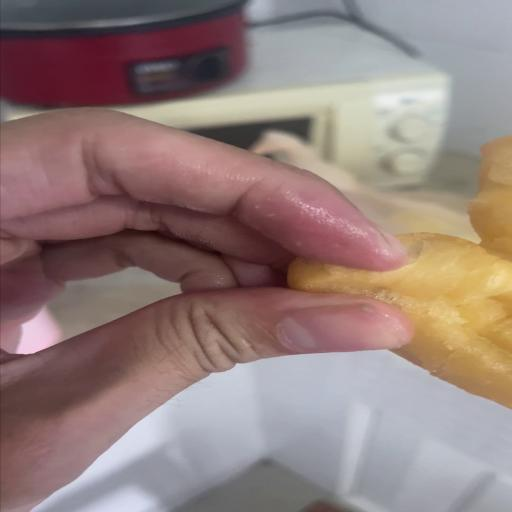street_golden_defect: (289, 198, 512, 408), (480, 138, 512, 194)
